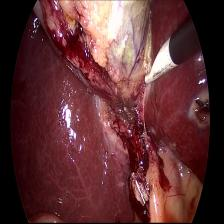Hook: (142, 37, 174, 94)
